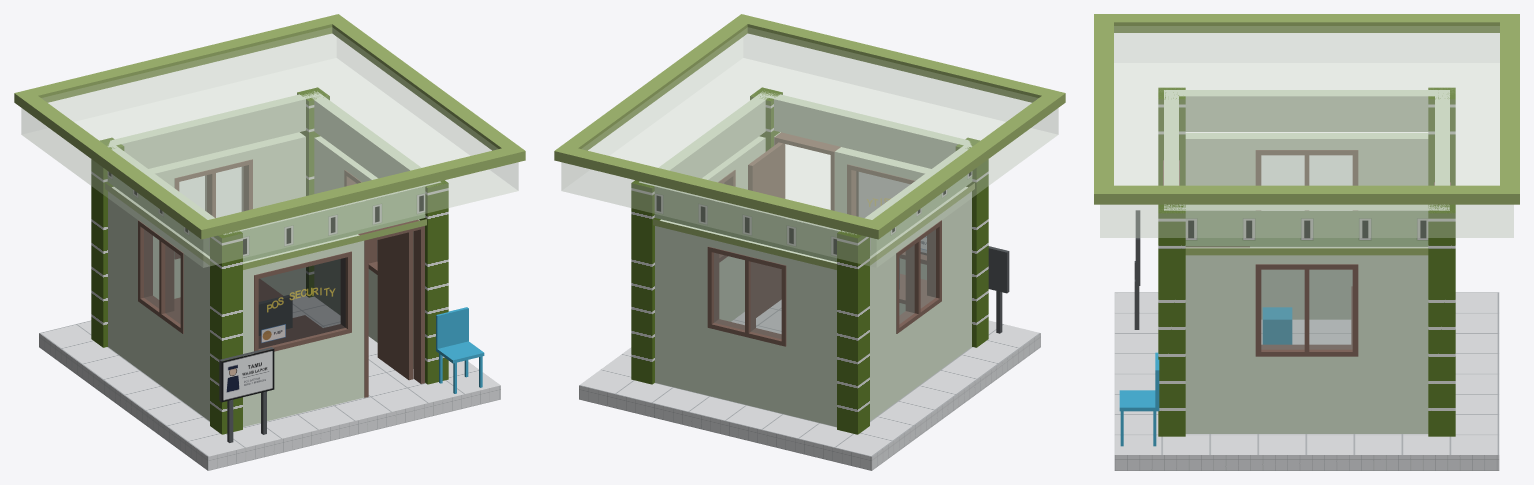
Rendered from pos_security_cutaway.glb.
3 views of the same model, side by side, from view 1: azimuth 30°, elevation 25°; view 2: azimuth 150°, elevation 25°; view 3: azimuth 270°, elevation 25° (orthographic). The views are drawn at different scales.
Parts seen in each view (by area): view 1: Atap_Dak_Beton_Kanopi, Dinding_Hijau_Pistachio, Lis_Olive_Kanopi, Lantai_Keramik_Putih, Kusen_Pintu_Meja_Coklat, Pilaster_Hijau_Olive, Lis_Ventilasi_Boven, Kaca_POS_SECURITY, Kaca_Jendela_Samping, Kursi_Plastik_Biru, Papan_Tamu_Wajib_Lapor, Rangka_Besi_Dan_Monitor; view 2: Atap_Dak_Beton_Kanopi, Dinding_Hijau_Pistachio, Lis_Olive_Kanopi, Lantai_Keramik_Putih, Pilaster_Hijau_Olive, Kusen_Pintu_Meja_Coklat, Lis_Ventilasi_Boven, Kaca_Jendela_Samping, Kaca_POS_SECURITY, Rangka_Besi_Dan_Monitor; view 3: Atap_Dak_Beton_Kanopi, Dinding_Hijau_Pistachio, Lantai_Keramik_Putih, Lis_Olive_Kanopi, Pilaster_Hijau_Olive, Kaca_Jendela_Samping, Lis_Ventilasi_Boven, Kusen_Pintu_Meja_Coklat, Kursi_Plastik_Biru, Rangka_Besi_Dan_Monitor.
Boxes of the visible parts, x1=… form: Atap_Dak_Beton_Kanopi: x1=21, y1=28, x2=518, y2=267; Dinding_Hijau_Pistachio: x1=107, y1=91, x2=440, y2=426; Lis_Olive_Kanopi: x1=14, y1=14, x2=525, y2=269; Lantai_Keramik_Putih: x1=39, y1=296, x2=500, y2=470; Kusen_Pintu_Meja_Coklat: x1=138, y1=159, x2=424, y2=397; Pilaster_Hijau_Olive: x1=91, y1=87, x2=448, y2=434; Lis_Ventilasi_Boven: x1=107, y1=171, x2=425, y2=262; Kaca_POS_SECURITY: x1=258, y1=258, x2=345, y2=348; Kaca_Jendela_Samping: x1=144, y1=167, x2=377, y2=323; Kursi_Plastik_Biru: x1=436, y1=307, x2=484, y2=393; Papan_Tamu_Wajib_Lapor: x1=221, y1=349, x2=274, y2=402; Rangka_Besi_Dan_Monitor: x1=219, y1=295, x2=292, y2=442; Atap_Dak_Beton_Kanopi: x1=561, y1=28, x2=1058, y2=267; Dinding_Hijau_Pistachio: x1=639, y1=91, x2=971, y2=426; Lis_Olive_Kanopi: x1=554, y1=14, x2=1065, y2=269; Lantai_Keramik_Putih: x1=579, y1=300, x2=1040, y2=470; Pilaster_Hijau_Olive: x1=631, y1=87, x2=988, y2=434; Kusen_Pintu_Meja_Coklat: x1=707, y1=132, x2=941, y2=346; Lis_Ventilasi_Boven: x1=654, y1=171, x2=972, y2=262; Kaca_Jendela_Samping: x1=714, y1=183, x2=935, y2=338; Kaca_POS_SECURITY: x1=856, y1=171, x2=926, y2=254; Rangka_Besi_Dan_Monitor: x1=899, y1=246, x2=1009, y2=333; Atap_Dak_Beton_Kanopi: x1=1100, y1=26, x2=1513, y2=237; Dinding_Hijau_Pistachio: x1=1164, y1=90, x2=1449, y2=433; Lantai_Keramik_Putih: x1=1114, y1=292, x2=1499, y2=470; Lis_Olive_Kanopi: x1=1094, y1=14, x2=1519, y2=255; Pilaster_Hijau_Olive: x1=1158, y1=87, x2=1455, y2=436; Kaca_Jendela_Samping: x1=1261, y1=155, x2=1352, y2=349; Lis_Ventilasi_Boven: x1=1185, y1=211, x2=1428, y2=246; Kusen_Pintu_Meja_Coklat: x1=1163, y1=150, x2=1450, y2=356; Kursi_Plastik_Biru: x1=1119, y1=307, x2=1292, y2=446; Rangka_Besi_Dan_Monitor: x1=1134, y1=210, x2=1140, y2=329.
Bounding box in the file's own units: 4.32 × 3.2 × 4.32.
Materials: 13 (5 with a texture image).
